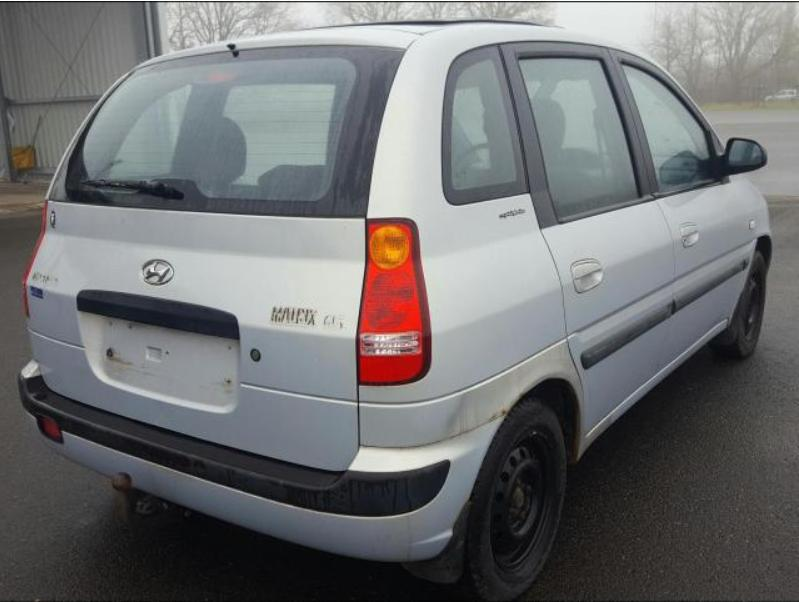Back-bumper: (15, 362, 502, 568)
Back-door: (500, 40, 676, 436)
Back-wheel: (460, 389, 580, 597)
Back-window: (517, 54, 640, 217), (441, 57, 525, 197)
Back-windshield: (51, 43, 401, 218)
Fender: (731, 172, 775, 277)
Front-door: (610, 49, 752, 361)
Front-wheel: (727, 251, 770, 360)
Front-window: (621, 63, 718, 189)
Mirror: (715, 136, 768, 178)
Quarter-panel: (358, 192, 584, 453)
Rocker-panel: (580, 319, 725, 463)
Roof: (150, 19, 641, 60)
Tail-light: (356, 223, 432, 391)
Trunk: (25, 202, 366, 472)
